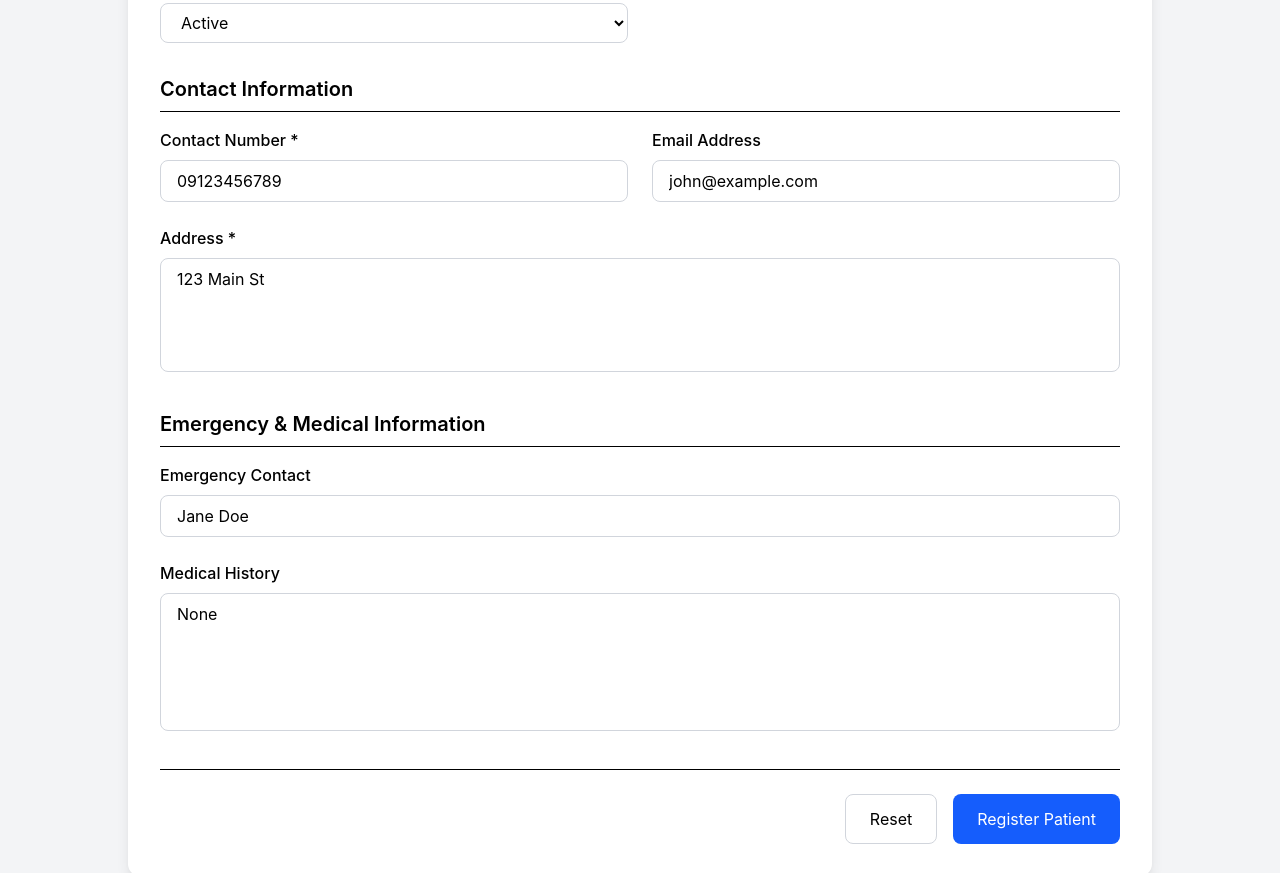
Test case: PatientRegistrationForm › handles API errors gracefully and displays error message
This screenshot has width=1280, height=873.
(page scrolled)
What coordinates should you click on to do the following:
click the button "Register Patient"
I would click on:
 (1037, 819)
Its box is x1=953 y1=794 x2=1120 y2=844.
(page scrolled)
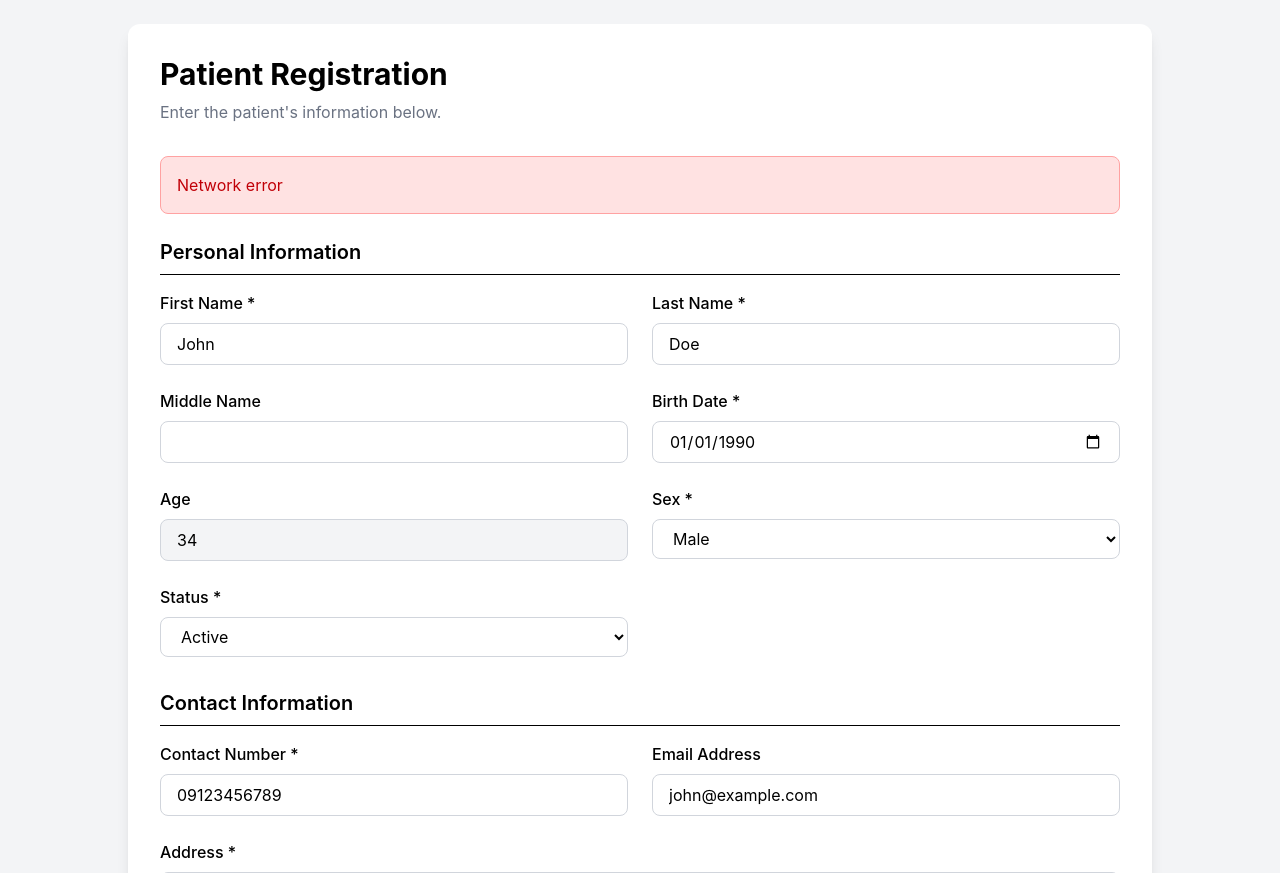
Result: the text "Network error" is shown at x1=160 y1=156 x2=1120 y2=214
